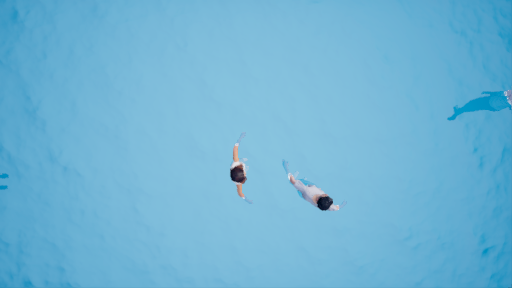person: (276, 154, 345, 214), (226, 127, 257, 204), (458, 81, 512, 114)
